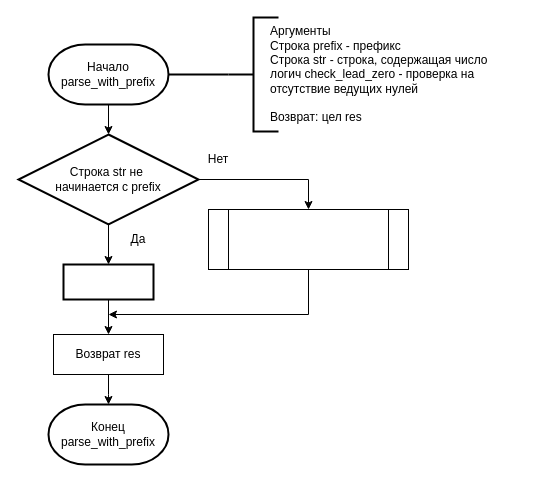
This 535x483 diagram has some shape labels left out. The shapes that lost their labels are listed below. From the top down, each one's box as (x1, y1, x2, y2) in pixels, then its label:
(208, 208, 408, 270): res = strtoi(str + длина(prefix), check_lead_zero)
(62, 263, 154, 300): res = -1
